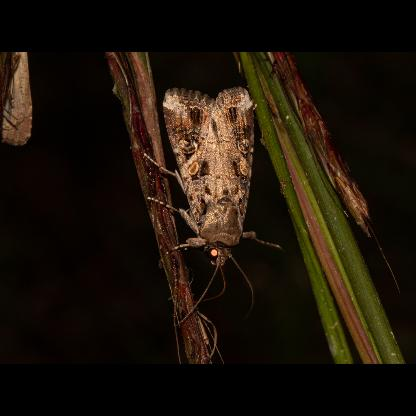Fall Armyworm Moth: (141, 82, 285, 322), (0, 52, 36, 150)
